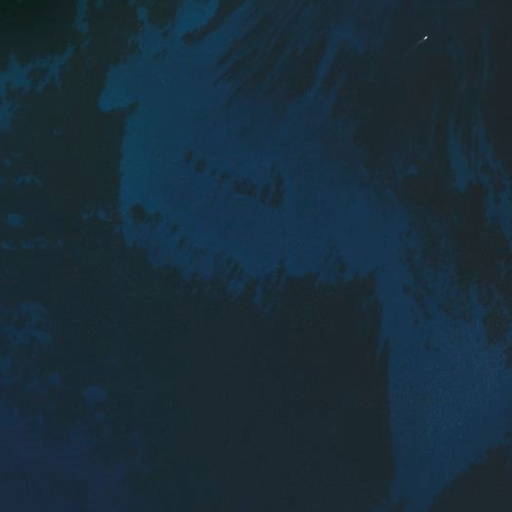ship: (421, 33, 429, 41)
